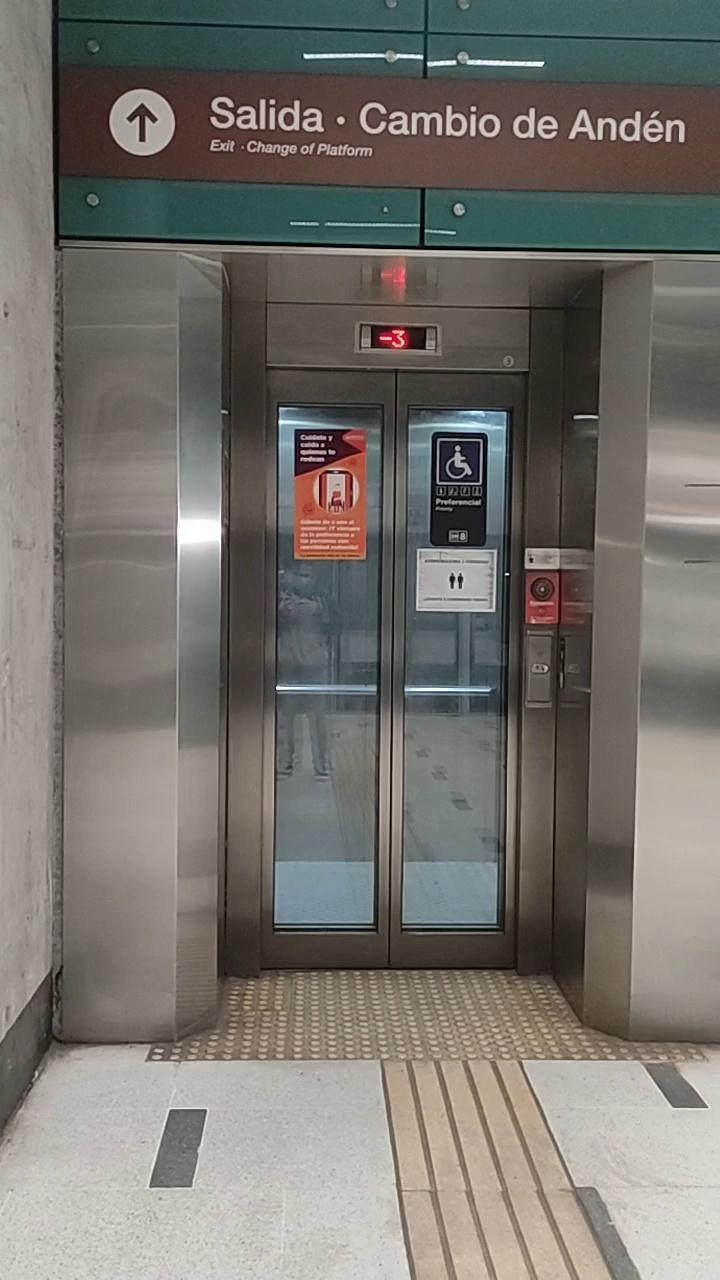handicapped symbol: (436, 430, 488, 493)
up arrow: (104, 92, 172, 165)
